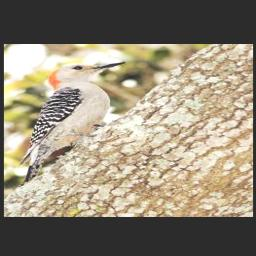Woodpecker: (11, 55, 130, 190)
